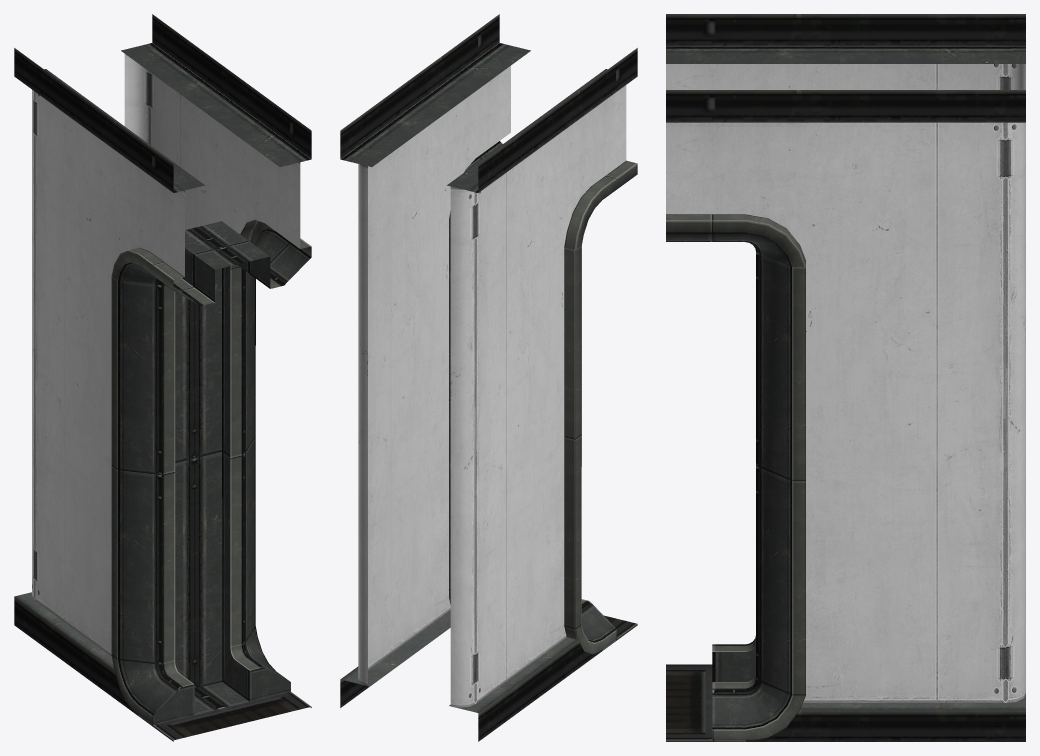
The model's file is Neon_DoorFrameCap.FBX.
The picture shows the model from 3 angles, left to right: view 1: azimuth 30°, elevation 25°; view 2: azimuth 150°, elevation 25°; view 3: azimuth 270°, elevation 25°; orthographic projection. The views are drawn at different scales.
Parts seen in each view (by area): view 1: Neon_DoorFrameCap; view 2: Neon_DoorFrameCap; view 3: Neon_DoorFrameCap.
Part boxes in pixels (x1,y1,x2,y2): Neon_DoorFrameCap: (14,14,311,741); Neon_DoorFrameCap: (340,14,637,741); Neon_DoorFrameCap: (666,14,1025,741).
Bounding box in the file's own units: 1 × 4 × 2.
